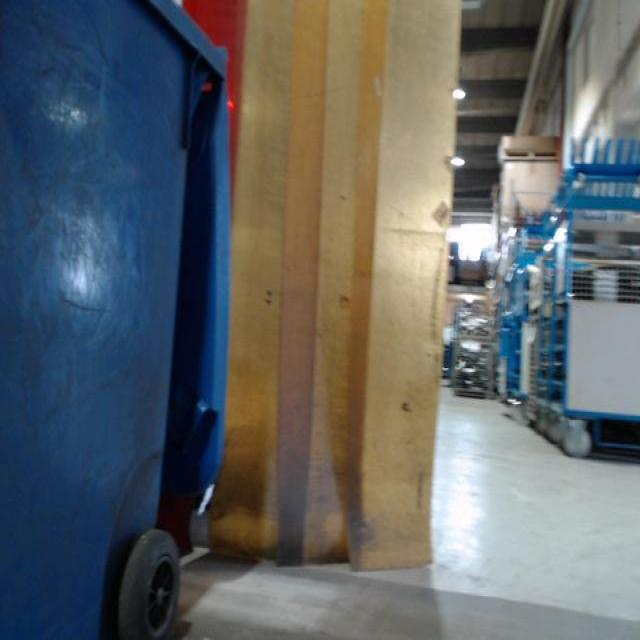pallet: (495, 150, 559, 163)
stillage: (548, 241, 639, 303), (526, 318, 553, 440), (449, 340, 496, 400), (450, 299, 498, 339)
